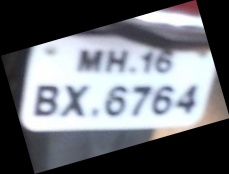character: (60, 83, 88, 117), (34, 84, 58, 117), (104, 83, 127, 116), (152, 83, 174, 116), (175, 84, 198, 114), (103, 49, 129, 75), (131, 84, 151, 117), (76, 48, 103, 72)
